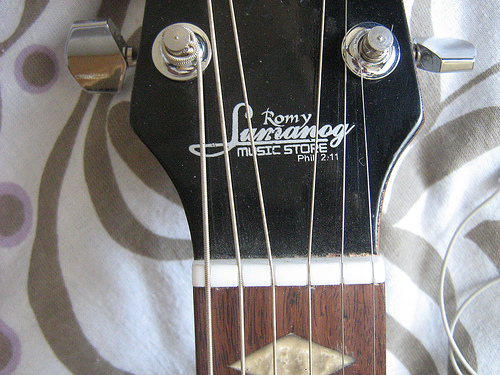guitar: (64, 1, 483, 375)
